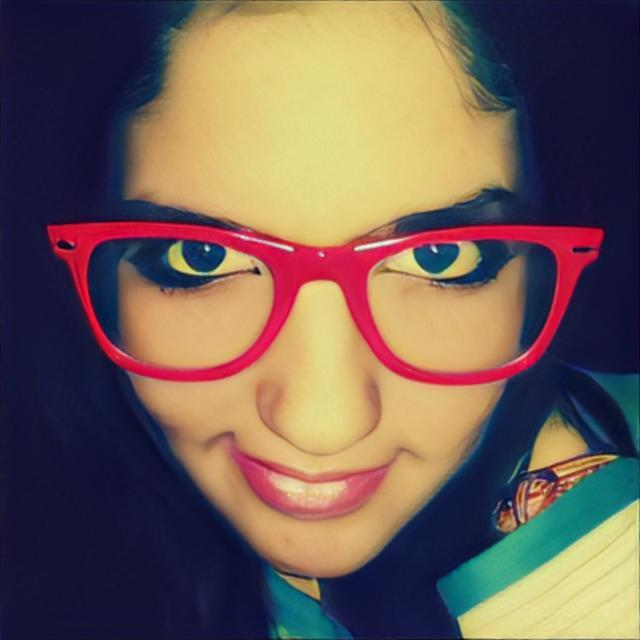content: (113, 0, 533, 581)
